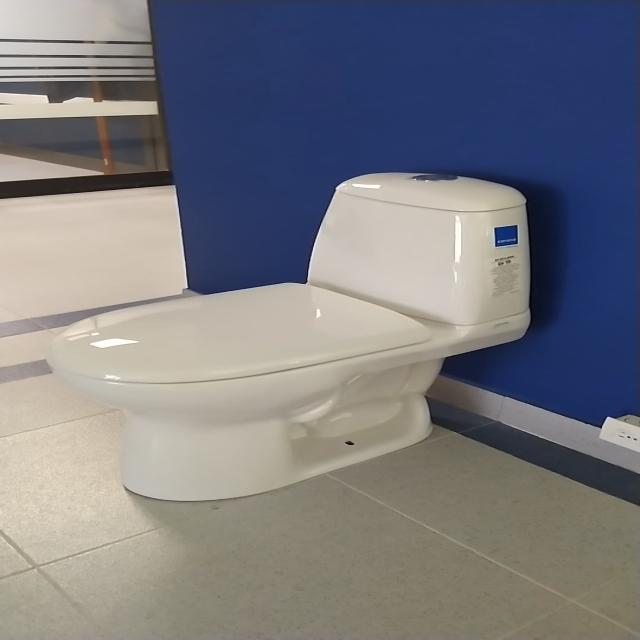toilet: (44, 171, 532, 502)
